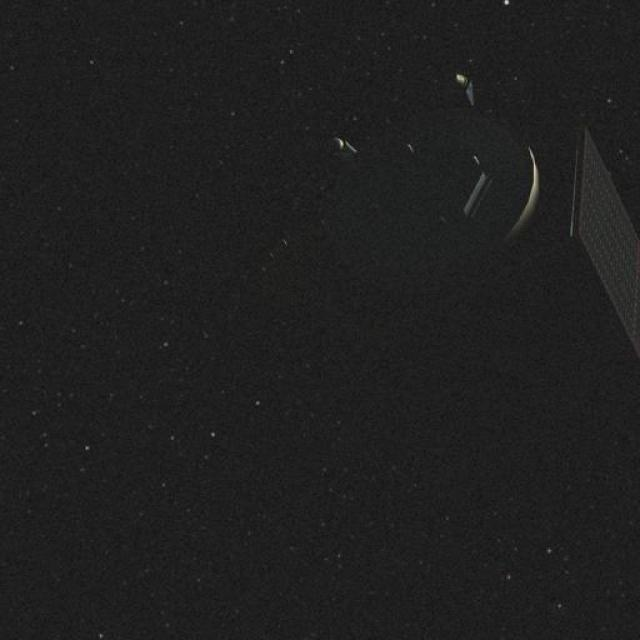cheops: (267, 3, 640, 396)
